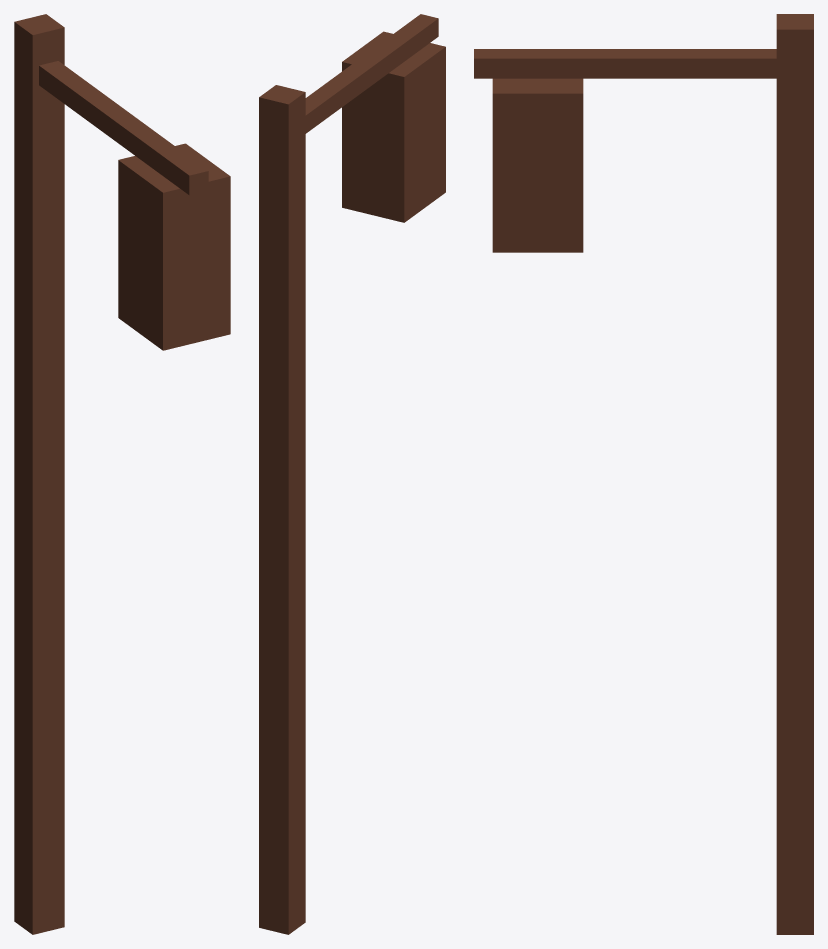
File: Prop_Traffic_Light_B_Pole_col.fbx
3 renders of one model, left to right at view 1: azimuth 30°, elevation 25°; view 2: azimuth 150°, elevation 25°; view 3: azimuth 270°, elevation 25°, orthographic. The views are drawn at different scales.
Parts seen in each view (by area): view 1: Prop_Traffic_Light_B_Pole_col; view 2: Prop_Traffic_Light_B_Pole_col; view 3: Prop_Traffic_Light_B_Pole_col.
Part boxes in pixels (<box>): Prop_Traffic_Light_B_Pole_col: <box>14,14,230,934</box>; Prop_Traffic_Light_B_Pole_col: <box>259,14,445,934</box>; Prop_Traffic_Light_B_Pole_col: <box>474,14,813,934</box>.
Size of the model in its own units: 31.75 by 404 by 138.
